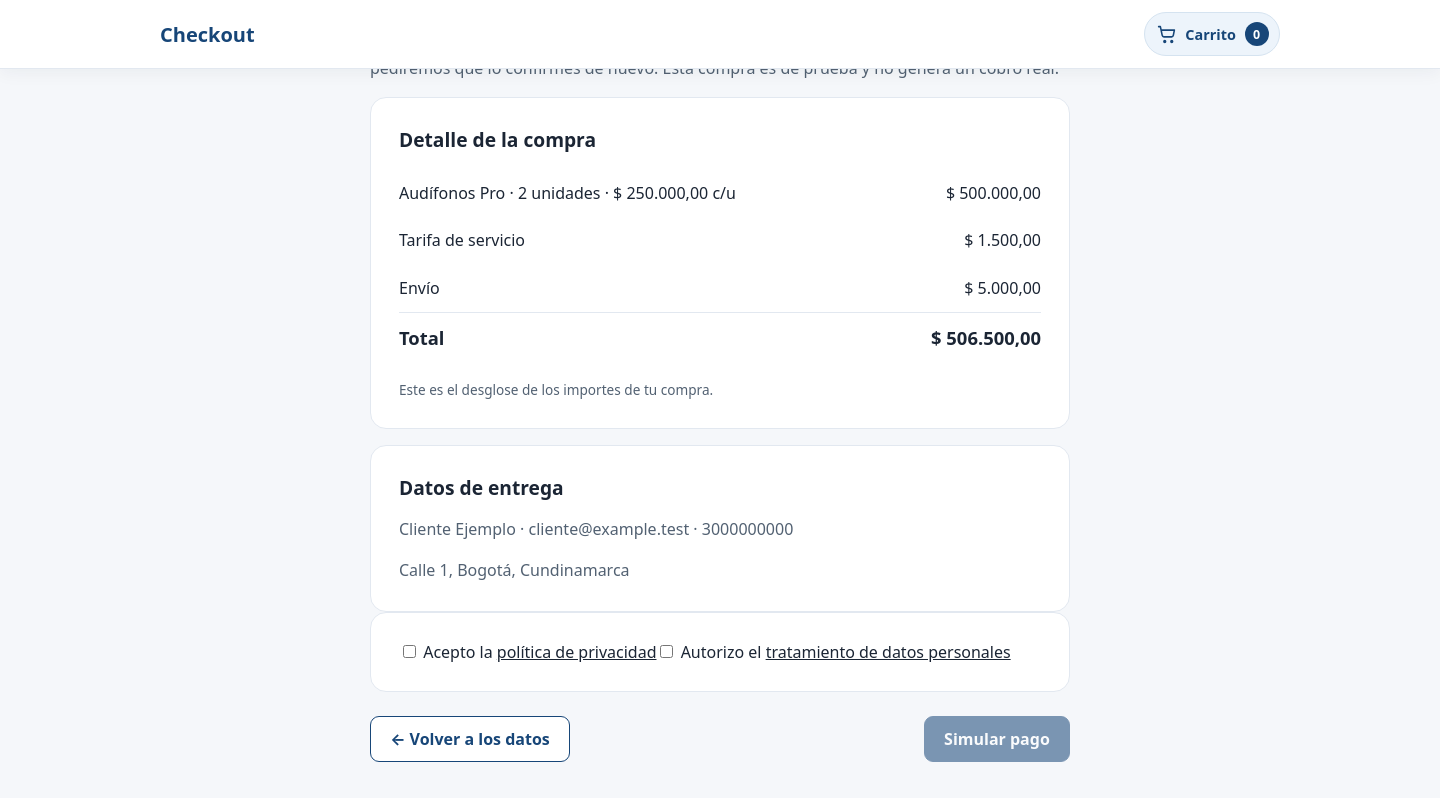
it: refresh del resumen recupera importe y entrega pero exige nueva aceptación y tarjeta
(page scrolled)
expect the text "$ 506.500,00" is shown: met, box [931,325,1041,350]
expect the checkbox labelled "Autorizo el tratamiento de datos personales" is not checked: met, box [660,645,674,658]
Click the checkbox labelled "Acepto la política de privacidad" at (410, 651), box [403,645,416,658]
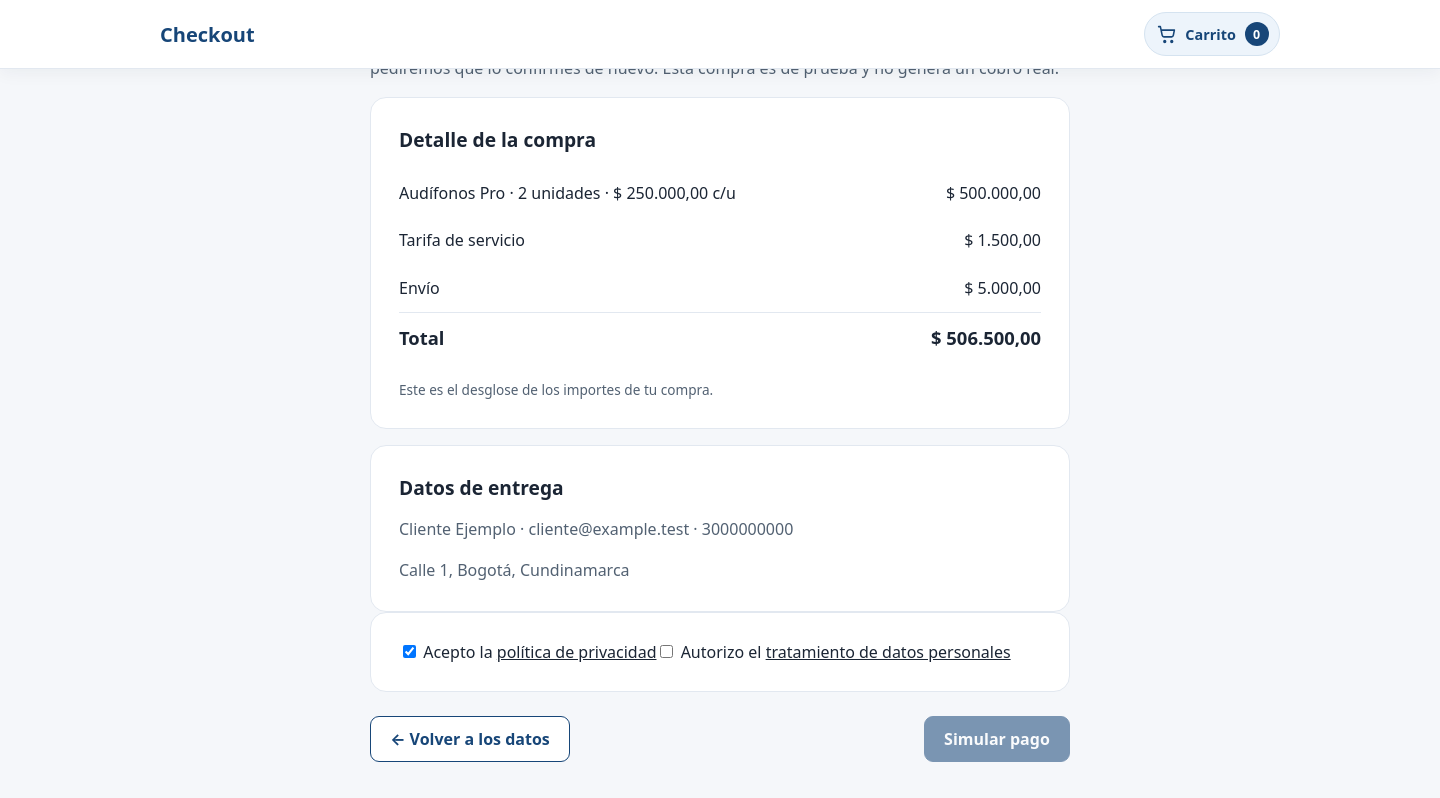
Click the checkbox labelled "Autorizo el tratamiento de datos personales" at (667, 651), box [660,645,674,658]
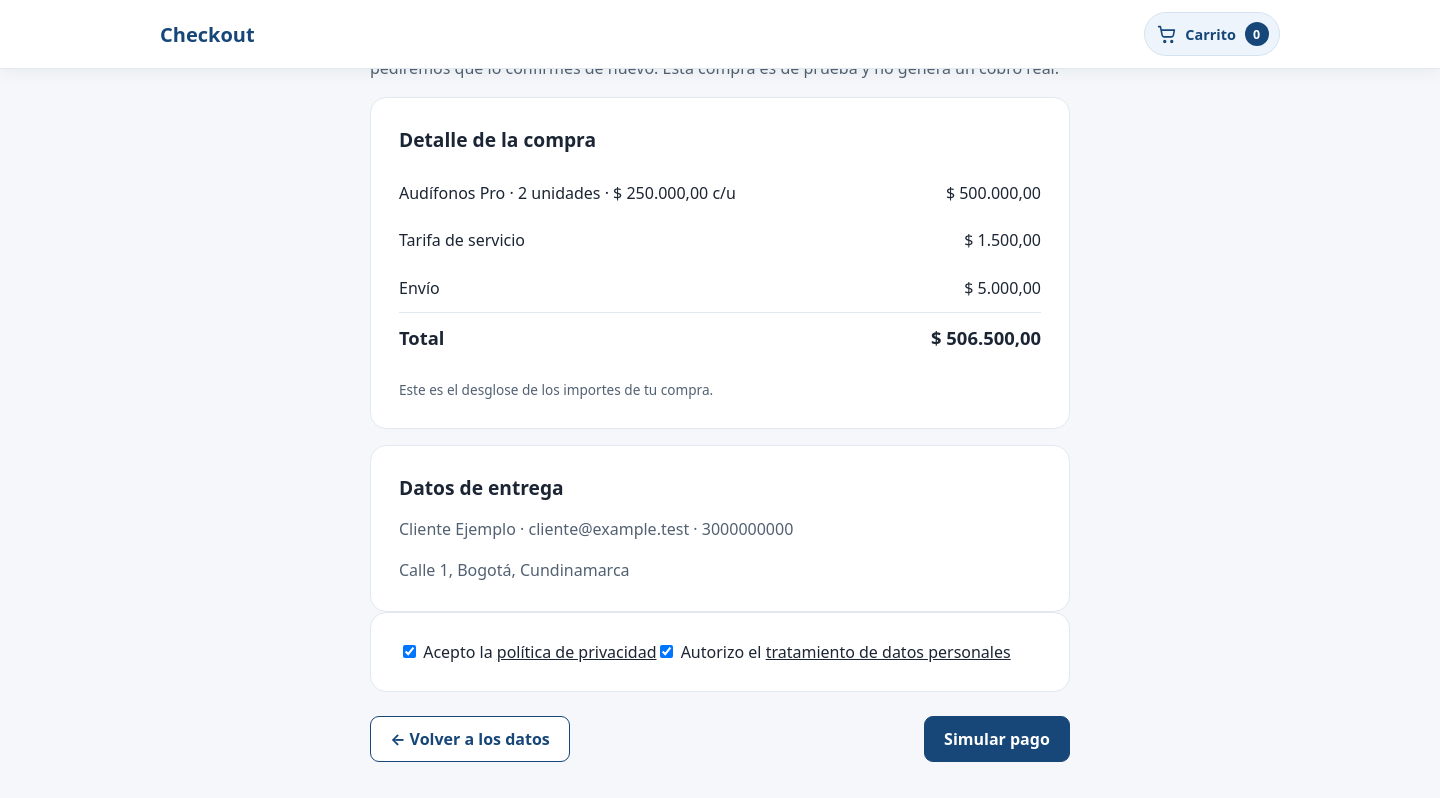
expect the button "Simular pago" is enabled: met
Click the button "Simular pago" at (997, 739), box [924,716,1070,762]
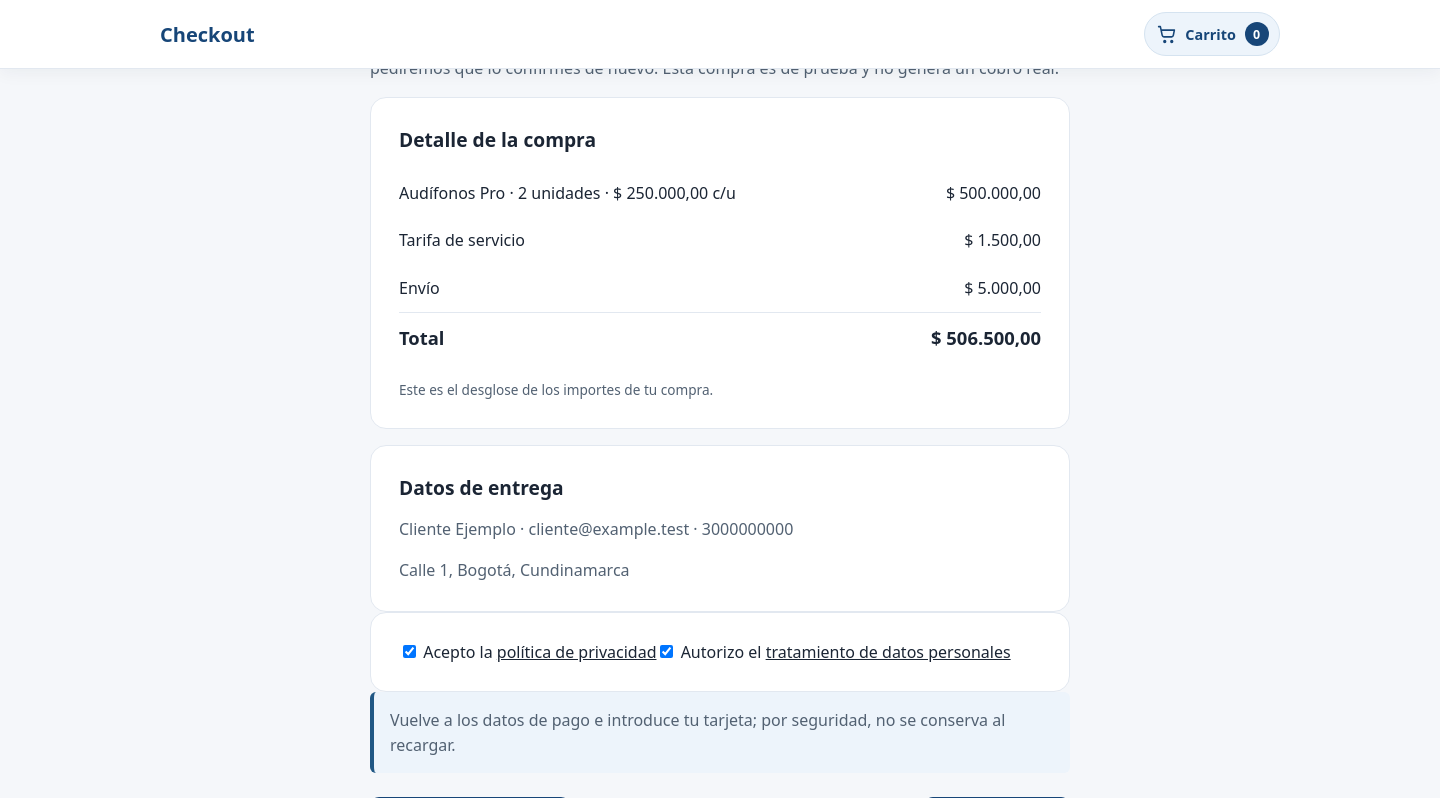
expect the text "Vuelve a los datos de pago e introduce tu tarjeta" is shown: met, box [390,709,1005,756]
